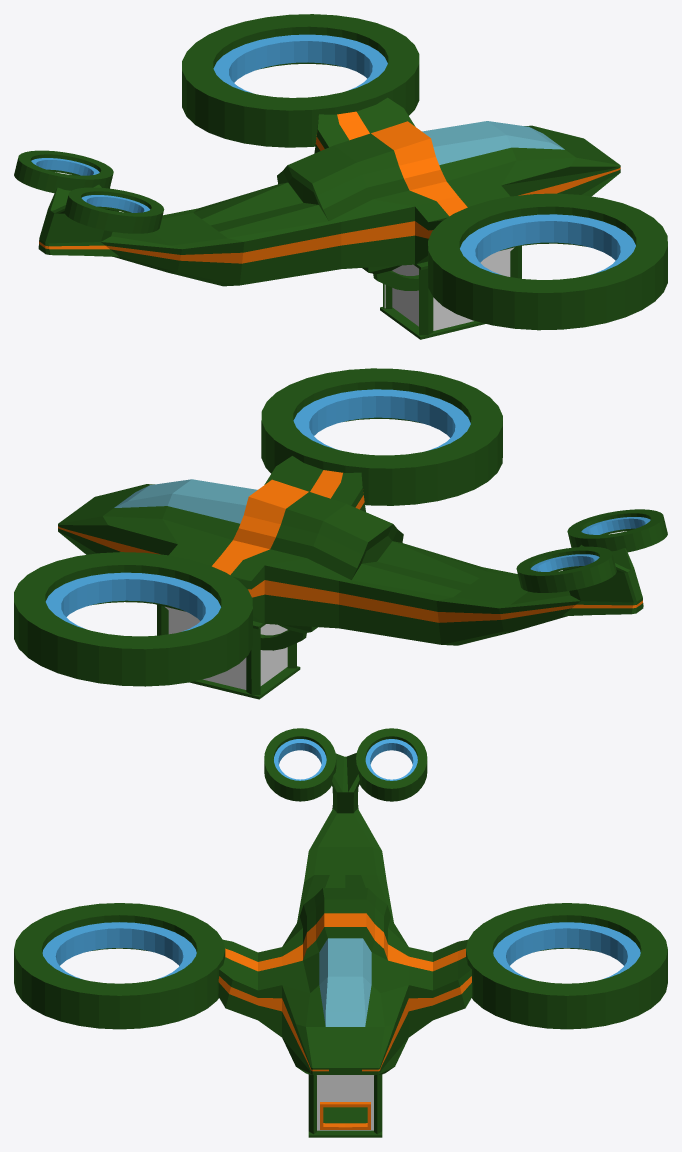
The model's file is nave_jugador.fbx.
3 views of the same model, one above another, from view 1: azimuth 30°, elevation 25°; view 2: azimuth 150°, elevation 25°; view 3: azimuth 270°, elevation 25° (orthographic). The views are drawn at different scales.
Parts seen in each view (by area): view 1: nave, ala2 grande, ala1 grande, franjas, ala2 peque, ala1 peque, cabina, ala4 grande, ala3 grande, capsula, cristales, ala4 peque (+1 smaller); view 2: nave, ala1 grande, ala2 grande, franjas, ala2 peque, ala1 peque, cabina, ala3 grande, ala4 grande, capsula, cristales, ala4 peque (+1 smaller); view 3: nave, ala2 grande, ala1 grande, franjas, cabina, ala2 peque, ala1 peque, ala4 grande, ala3 grande, capsula, cristales, ala4 peque (+2 smaller).
Part boxes in pixels (left/top/right/bottom): nave: left=38, top=97, right=620, bottom=290; ala2 grande: left=428, top=193, right=667, bottom=330; ala1 grande: left=182, top=14, right=419, bottom=147; franjas: left=39, top=111, right=620, bottom=263; ala2 peque: left=460, top=214, right=635, bottom=274; ala1 peque: left=213, top=34, right=387, bottom=93; cabina: left=422, top=121, right=564, bottom=164; ala4 grande: left=64, top=187, right=164, bottom=233; ala3 grande: left=14, top=150, right=113, bottom=193; capsula: left=380, top=245, right=521, bottom=339; cristales: left=384, top=247, right=514, bottom=330; ala4 peque: left=81, top=195, right=150, bottom=212; nave: left=58, top=456, right=643, bottom=650; ala1 grande: left=14, top=552, right=252, bottom=686; ala2 grande: left=261, top=368, right=502, bottom=505; franjas: left=58, top=470, right=642, bottom=622; ala2 peque: left=293, top=389, right=470, bottom=450; ala1 peque: left=45, top=572, right=220, bottom=631; cabina: left=114, top=479, right=257, bottom=523; ala3 grande: left=516, top=546, right=616, bottom=592; ala4 grande: left=567, top=509, right=667, bottom=552; capsula: left=155, top=604, right=300, bottom=699; cristales: left=165, top=606, right=287, bottom=689; ala4 peque: left=581, top=517, right=650, bottom=534; nave: left=218, top=753, right=472, bottom=1074; ala2 grande: left=14, top=903, right=225, bottom=1029; ala1 grande: left=466, top=903, right=667, bottom=1029; franjas: left=218, top=913, right=471, bottom=1071; cabina: left=319, top=938, right=371, bottom=1026; ala2 peque: left=42, top=922, right=196, bottom=979; ala1 peque: left=493, top=922, right=640, bottom=978; ala4 grande: left=264, top=728, right=336, bottom=801; ala3 grande: left=356, top=728, right=427, bottom=801; capsula: left=308, top=1074, right=382, bottom=1137; cristales: left=317, top=1075, right=373, bottom=1130; ala4 peque: left=274, top=739, right=326, bottom=780.
Bounding box in the file's own units: 21.59 × 8.43 × 24.13.
